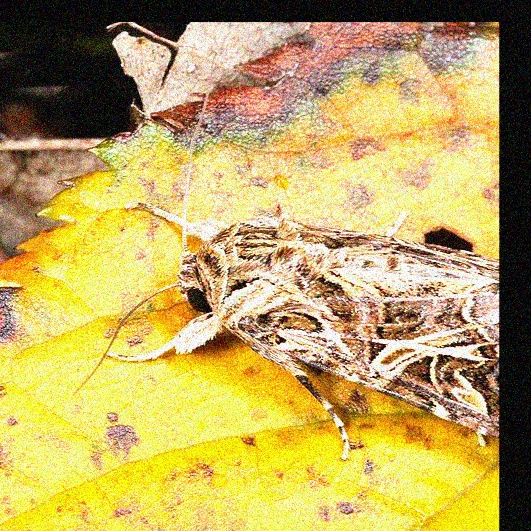Spodoptera litura: (70, 50, 499, 462)
